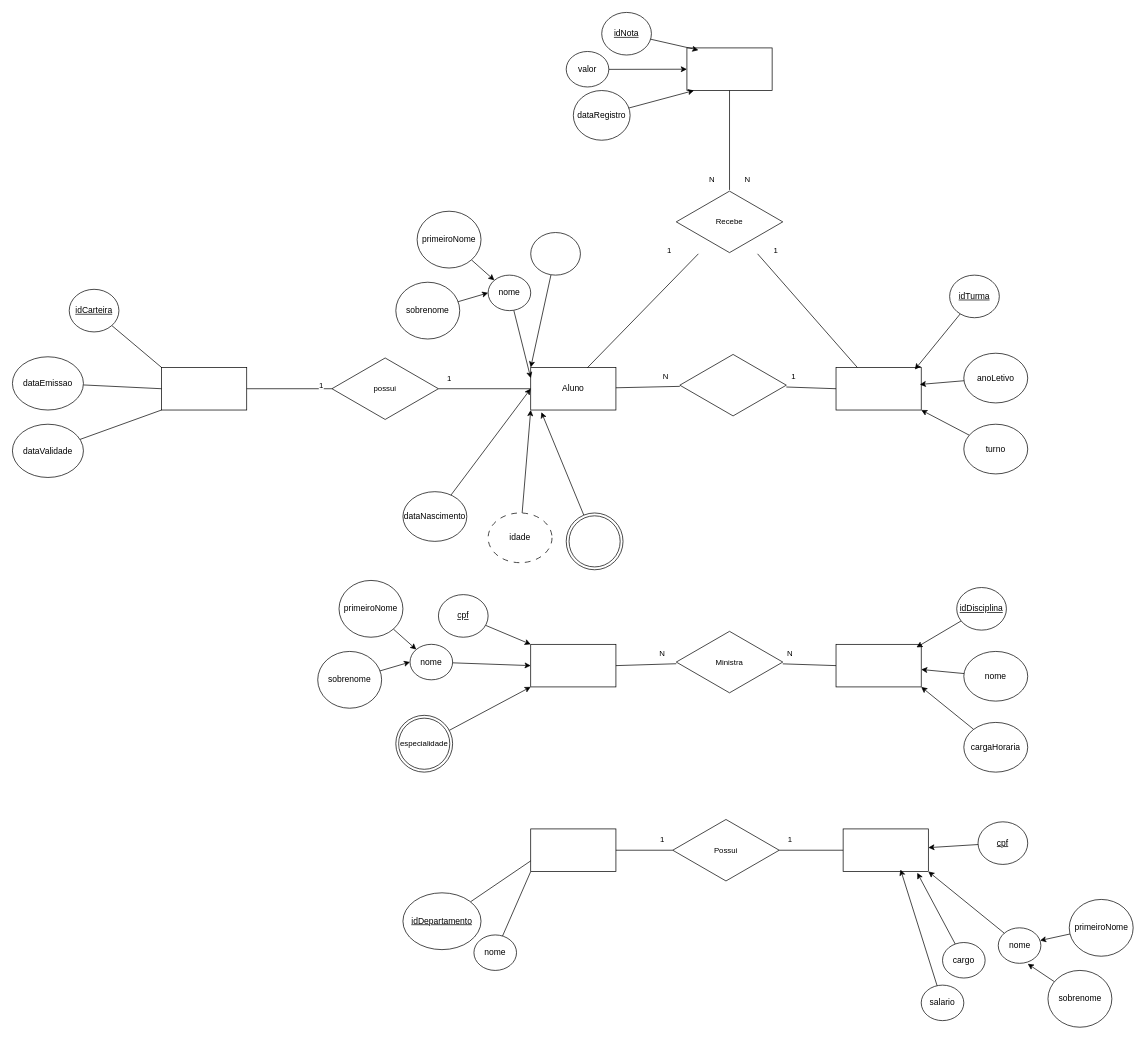
The diagram is 1146 pixels wide and 1040 high, and some of its shapes have lost their labels. Each missing label, with the centre of its shape:
"CarteiraEstudantil" goes at [204,388].
"Departamento" goes at [573,850].
"Disciplina" goes at [878,665].
"Funcionario" goes at [885,850].
"matricula" goes at [555,253].
"matriculado em" goes at [732,385].
"Nota" goes at [729,69].
"Professor" goes at [573,665].
"telefone" goes at [594,541].
"Turma" goes at [878,388].
